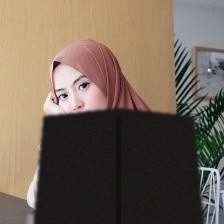Cadar_Niqab: (33, 38, 204, 224)
